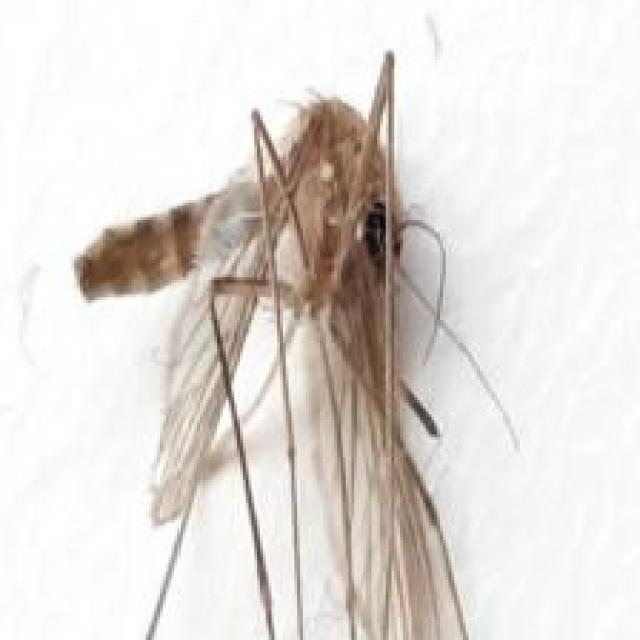Culex: (71, 48, 522, 640)
